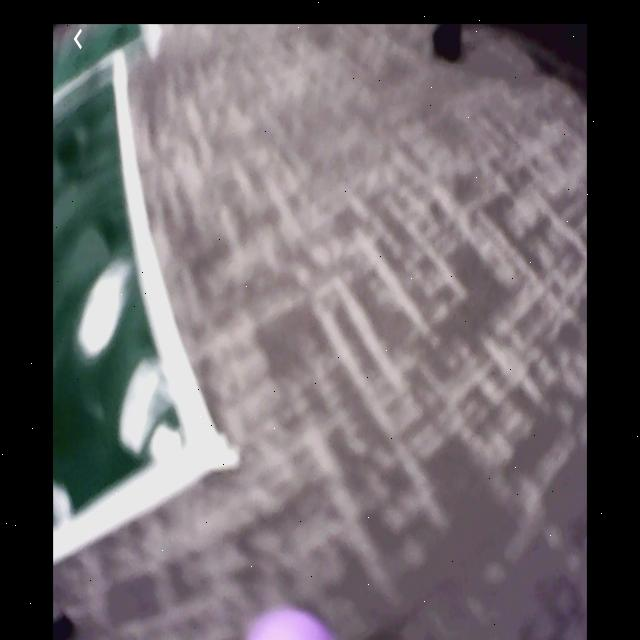ball: (244, 612, 340, 640)
